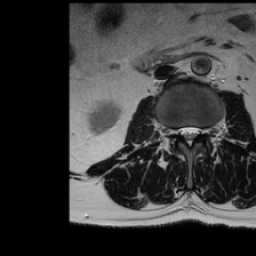CCS_normal: (185, 119, 193, 151)
LFS_stenosis: (200, 122, 206, 140)
LLS_normal: (193, 121, 199, 145)
RFS_stenosis: (171, 123, 179, 140)
RLS_normal: (179, 121, 186, 145)
